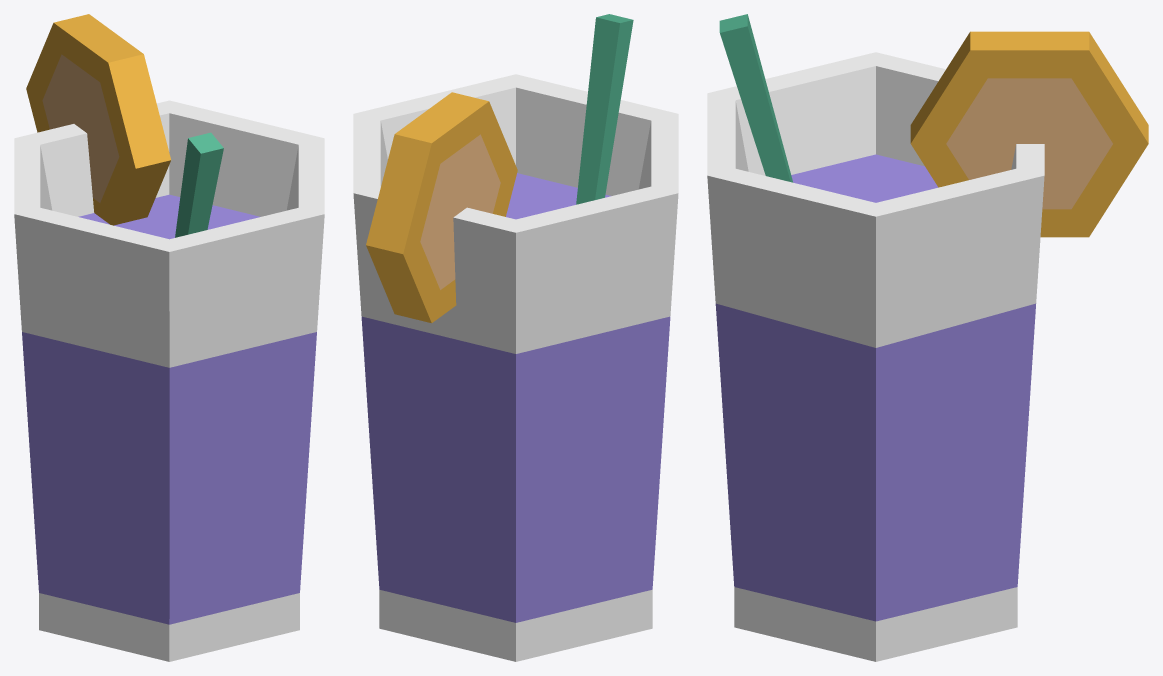
The model's file is sodaGlass.fbx.
3 renders of one model, left to right at view 1: azimuth 30°, elevation 25°; view 2: azimuth 150°, elevation 25°; view 3: azimuth 270°, elevation 25°, orthographic. The views are drawn at different scales.
Parts seen in each view (by area): view 1: sodaGlass, lemon, straw; view 2: sodaGlass, lemon, straw; view 3: sodaGlass, lemon, straw.
Part boxes in pixels (x1,y1,x2,y2): sodaGlass: (14, 100, 324, 661); lemon: (26, 14, 170, 225); straw: (175, 132, 223, 237); sodaGlass: (353, 74, 678, 661); lemon: (366, 92, 517, 323); straw: (576, 14, 633, 204); sodaGlass: (707, 52, 1044, 661); lemon: (910, 31, 1148, 237); straw: (719, 14, 793, 182).
Size of the model in its own units: 2.62 by 4.13 by 2.97.
